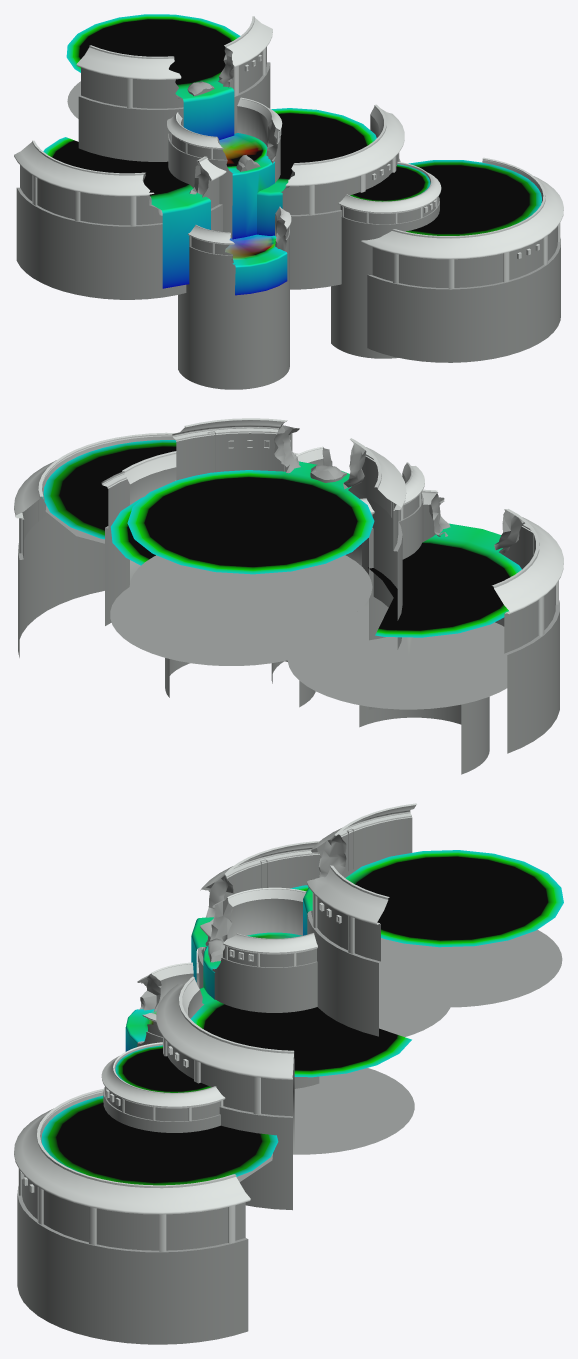
3 views of the same model, one above another, from view 1: azimuth 30°, elevation 25°; view 2: azimuth 150°, elevation 25°; view 3: azimuth 270°, elevation 25° (orthographic). The views are drawn at different scales.
Visible parts, largest first — view 1: G:\FFXIV-MapTools\exports\e3ec\bg\ex2\02_est_e3\evt\e3ec\bgp (×9); view 2: G:\FFXIV-MapTools\exports\e3ec\bg\ex2\02_est_e3\evt\e3ec\bgp (×8); view 3: G:\FFXIV-MapTools\exports\e3ec\bg\ex2\02_est_e3\evt\e3ec\bgp (×10).
Part boxes in pixels (x1,y1,x2,y2): G:\FFXIV-MapTools\exports\e3ec\bg\ex2\02_est_e3\evt\e3ec\bgp (×9): (14,14,563,389); G:\FFXIV-MapTools\exports\e3ec\bg\ex2\02_est_e3\evt\e3ec\bgp (×8): (14,418,563,774); G:\FFXIV-MapTools\exports\e3ec\bg\ex2\02_est_e3\evt\e3ec\bgp (×10): (14,803,563,1344).
Size of the model in its own units: 620 by 358 by 522.
